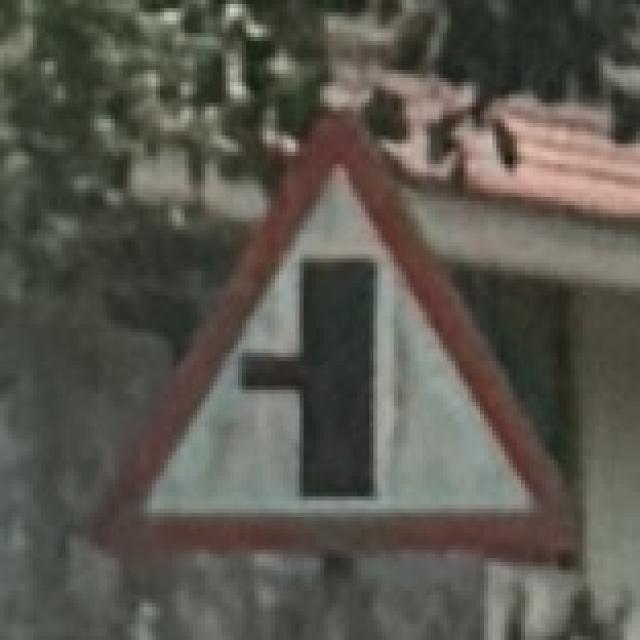SIDE_ROAD_LEFT: (59, 93, 588, 572)
